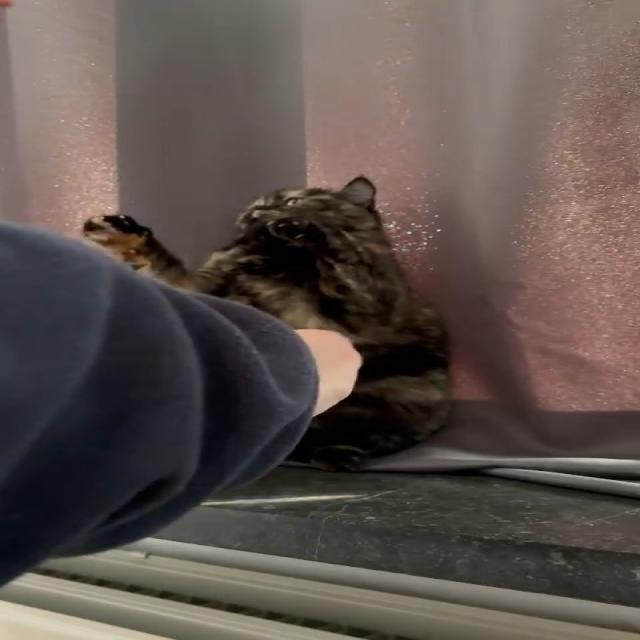authorized: (80, 175, 455, 472)
